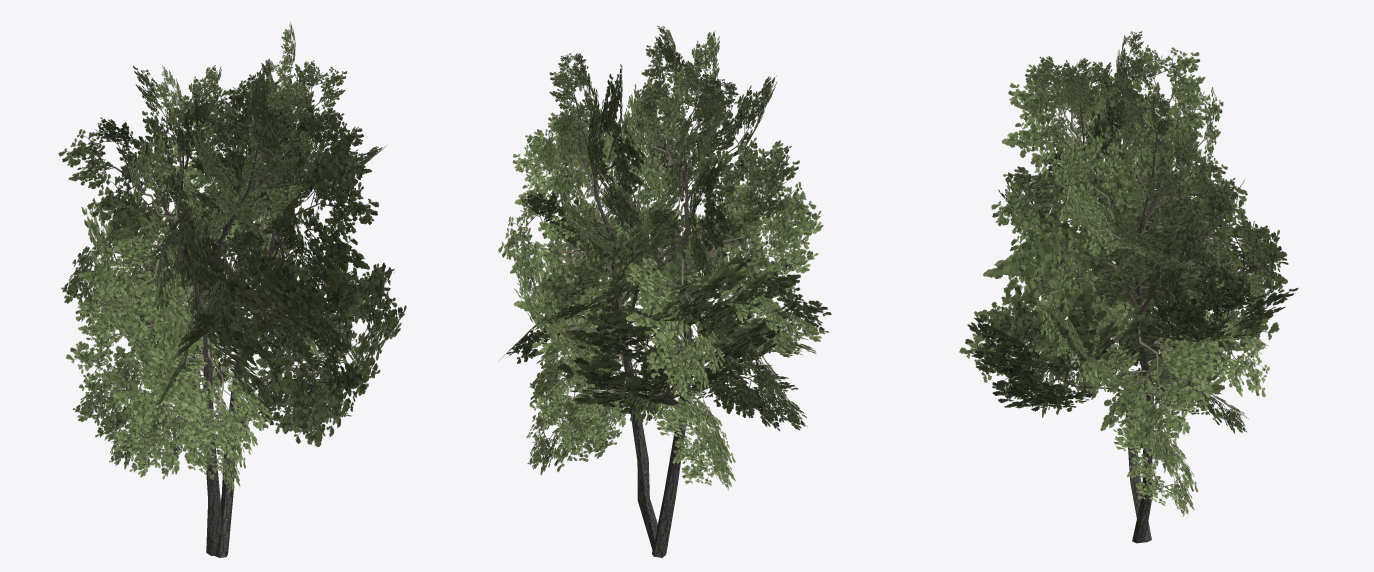
File: tree2.glb
3 renders of one model, left to right at view 1: azimuth 30°, elevation 25°; view 2: azimuth 150°, elevation 25°; view 3: azimuth 270°, elevation 25°, orthographic. The views are drawn at different scales.
Visible parts, largest first — view 1: Tree-02-2; view 2: Tree-02-2; view 3: Tree-02-2.
Part boxes in pixels (bbox=[...]): Tree-02-2: bbox=[58, 21, 406, 557]; Tree-02-2: bbox=[498, 25, 831, 557]; Tree-02-2: bbox=[959, 31, 1298, 543].
Bounding box in the file's own units: 5.74 × 7.99 × 6.61.
Materials: 3 (3 with a texture image).
